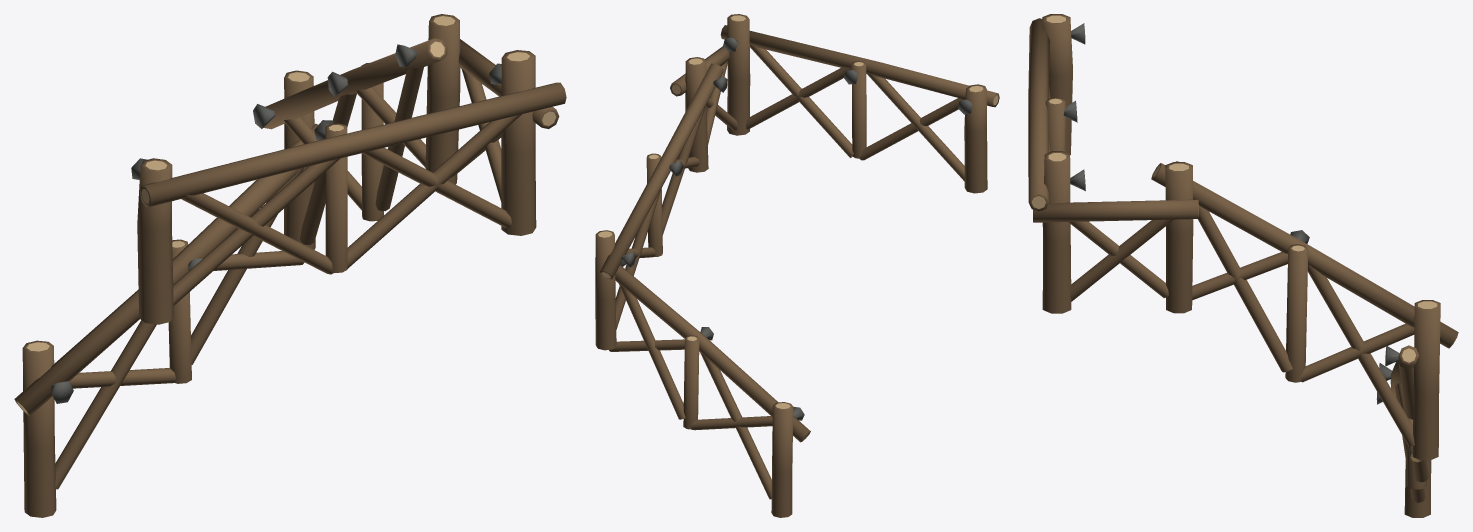
The model's file is rpgpp_ag_stairs_interior_02b_4m_handrail_01.fbx.
The picture shows the model from 3 angles, left to right: view 1: azimuth 30°, elevation 25°; view 2: azimuth 150°, elevation 25°; view 3: azimuth 270°, elevation 25°; orthographic projection. The views are drawn at different scales.
Visible parts, largest first — view 1: rpgpp_ag_stairs_interior_02b_4m_handrail_01; view 2: rpgpp_ag_stairs_interior_02b_4m_handrail_01; view 3: rpgpp_ag_stairs_interior_02b_4m_handrail_01.
Boxes of the visible parts, x1,y1,x2,y2 form: rpgpp_ag_stairs_interior_02b_4m_handrail_01: (14,14,566,517); rpgpp_ag_stairs_interior_02b_4m_handrail_01: (595,14,999,517); rpgpp_ag_stairs_interior_02b_4m_handrail_01: (1028,14,1458,517).
Bounding box in the file's own units: 4.4 × 5.46 × 4.52.
